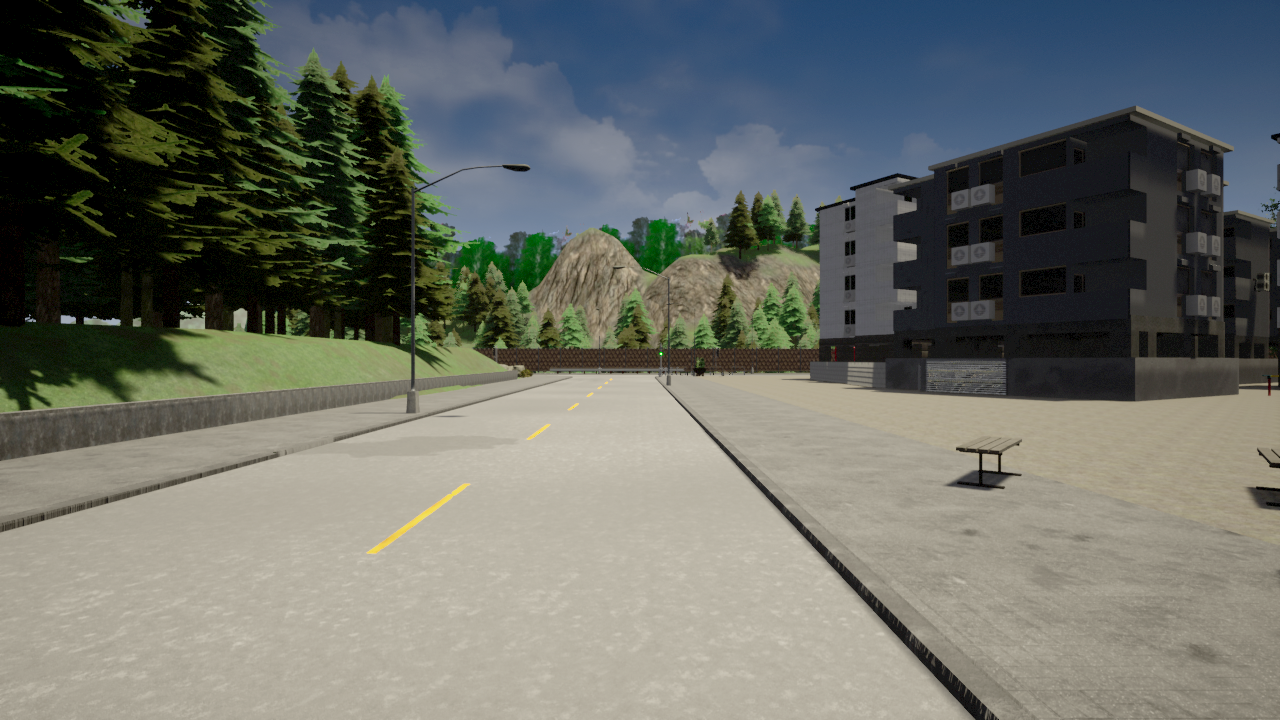green: (659, 346, 663, 357)
